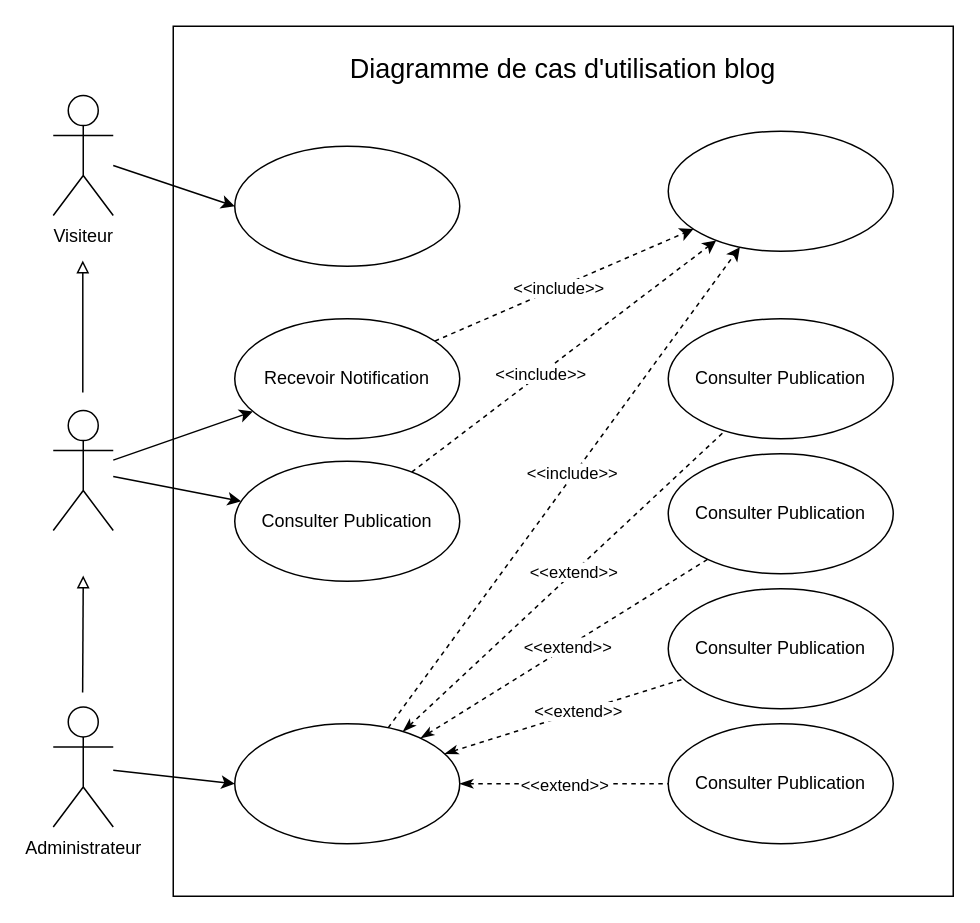
Image size: 980x923. Some labels were removed from this diagram. Here are the shapes that lost their labels. From the top down, the centre of each, then its label:
At (346,205): "Consulter page Blog".
At (780,190): "Authentification".
At (82,470): "Client".
At (346,783): "Gérer Blog".
